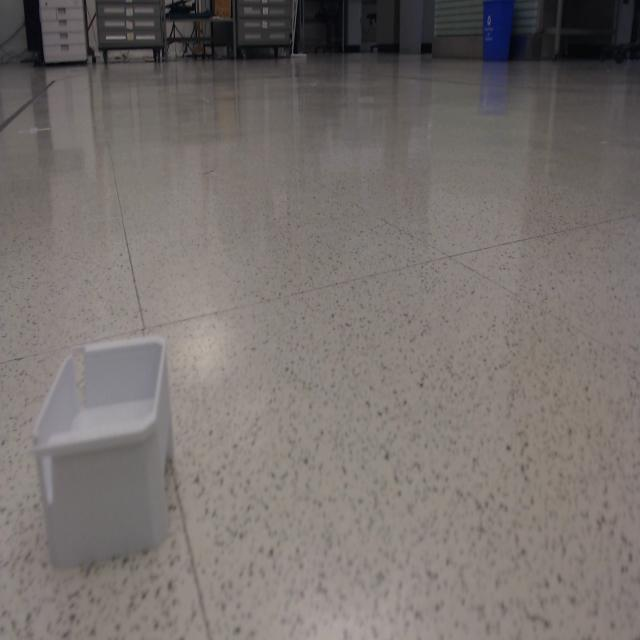wbox: (30, 328, 177, 570)
